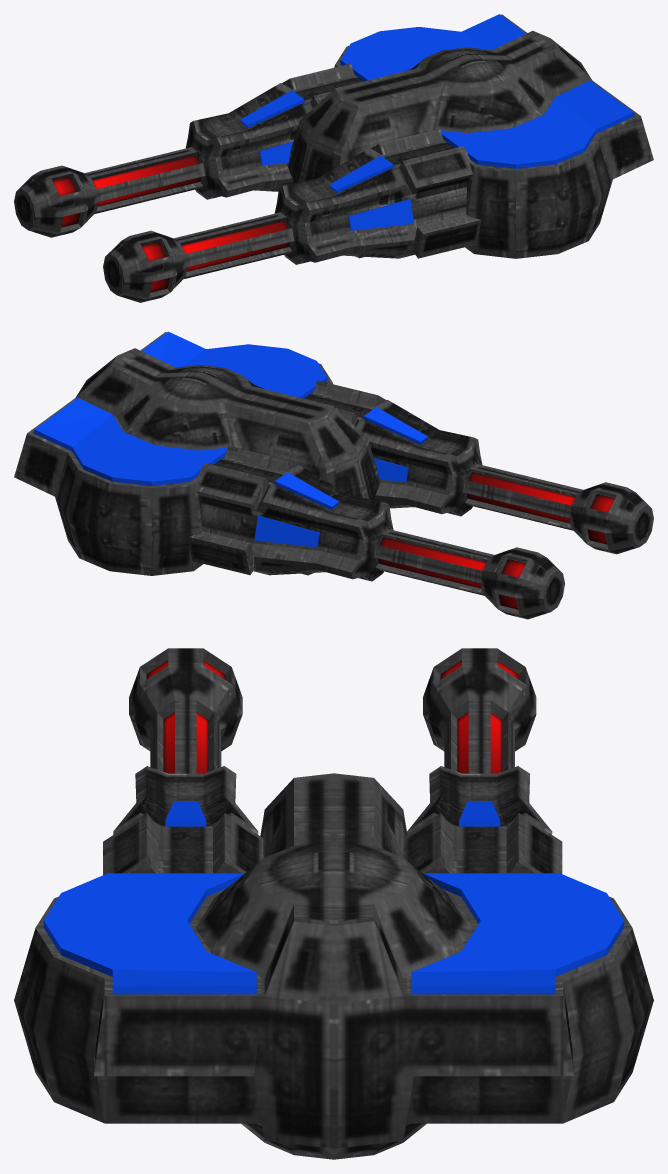
File: generic_DualLaserCannnons1.FBX
The picture shows the model from 3 angles, top to bottom: view 1: azimuth 30°, elevation 25°; view 2: azimuth 150°, elevation 25°; view 3: azimuth 270°, elevation 25°; orthographic projection. The views are drawn at different scales.
Visible parts, largest first — view 1: Tower Elements, DualLaserCannons_PlayerColoring; view 2: Tower Elements, DualLaserCannons_PlayerColoring; view 3: Tower Elements, DualLaserCannons_PlayerColoring.
Part boxes in pixels (left/top/right/bottom): Tower Elements: left=14, top=14, right=653, bottom=302; DualLaserCannons_PlayerColoring: left=240, top=14, right=634, bottom=230; Tower Elements: left=14, top=332, right=653, bottom=619; DualLaserCannons_PlayerColoring: left=33, top=331, right=427, bottom=547; Tower Elements: left=14, top=648, right=653, bottom=1159; DualLaserCannons_PlayerColoring: left=43, top=801, right=624, bottom=994.
Bounding box in the file's own units: 31.69 × 20.32 × 10.16.
